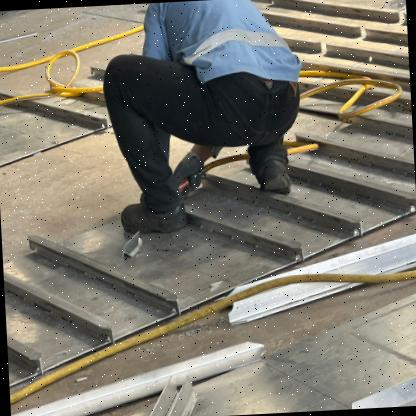bota: (116, 190, 188, 235), (249, 148, 296, 196)
